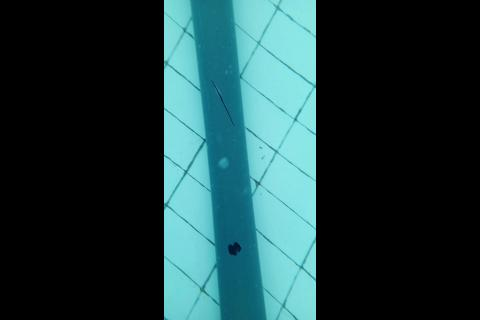kebocoran: (226, 240, 243, 258)
keretakan: (209, 77, 236, 128)
